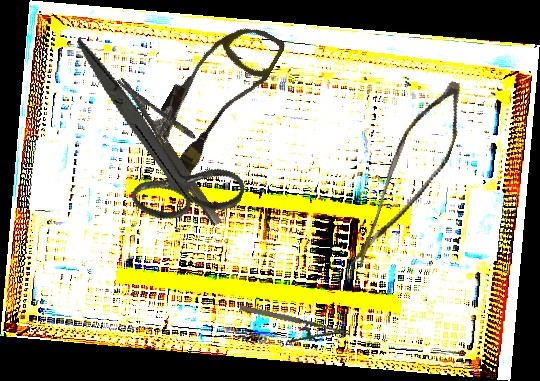Cannula: (137, 5, 288, 188)
Iris Scissors: (29, 35, 275, 245)
Micro Scissor: (348, 68, 473, 289)
Needle Holder: (117, 61, 242, 228), (234, 301, 351, 358)
